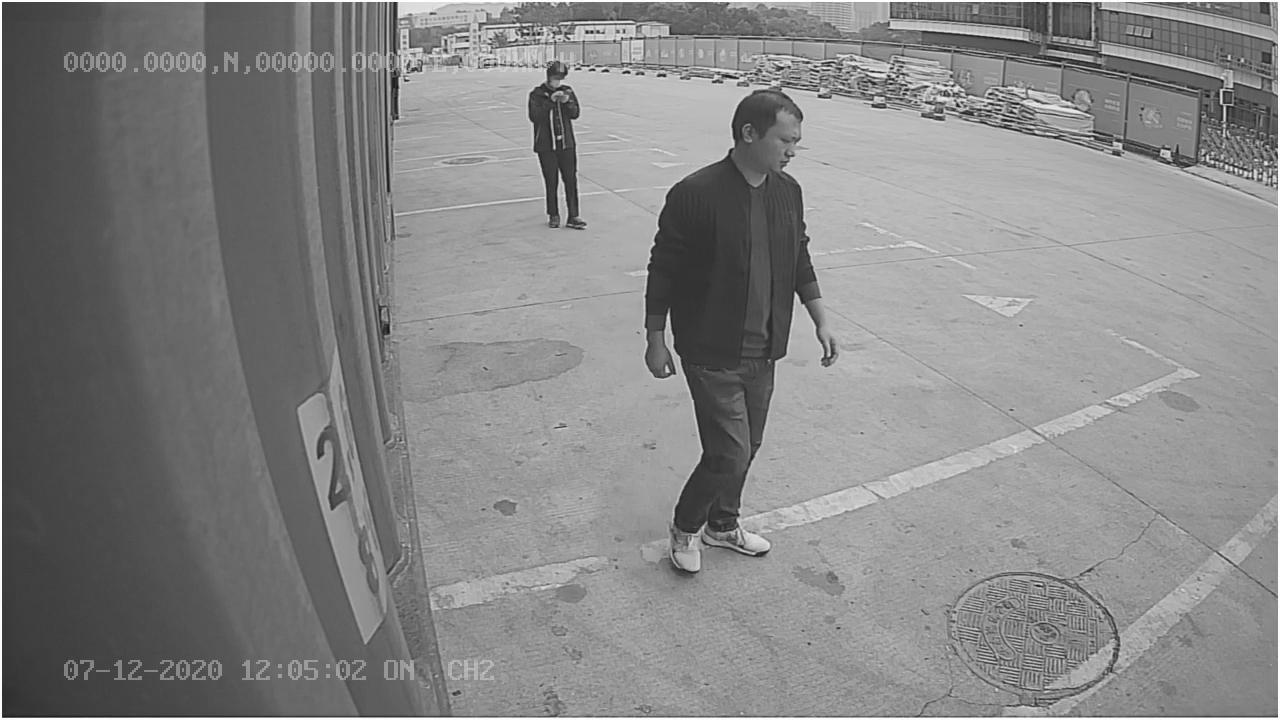person: (640, 76, 839, 573)
